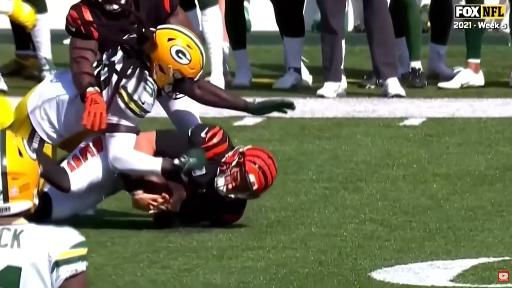Helmet: (0, 130, 39, 216), (151, 25, 205, 87), (216, 146, 277, 199), (98, 0, 126, 11)
Jersey: (156, 124, 246, 225), (0, 224, 87, 287), (96, 49, 157, 126), (66, 0, 136, 53)
Player: (34, 124, 276, 226), (66, 0, 196, 130), (96, 26, 201, 174), (0, 130, 87, 287), (0, 0, 36, 31)
